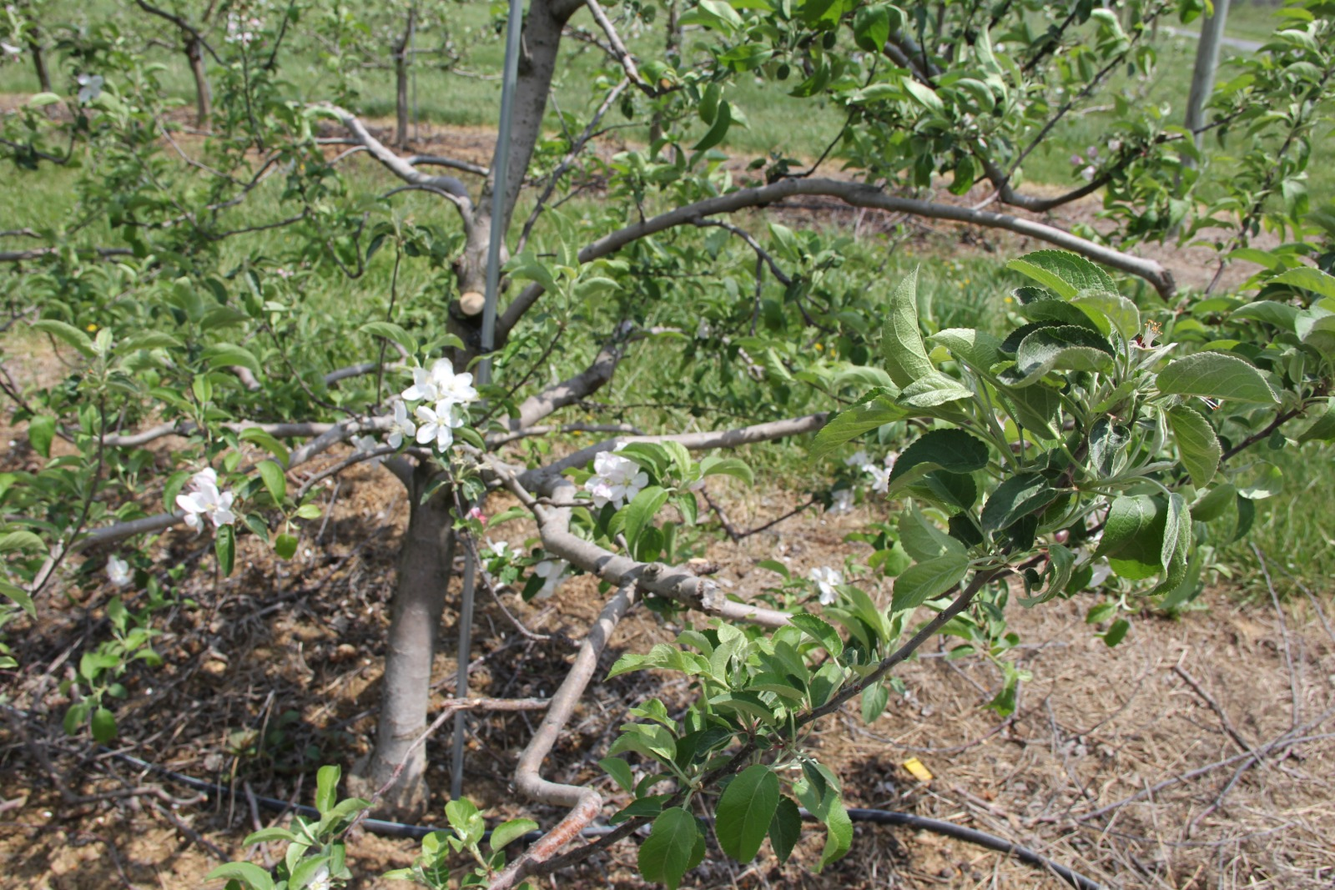flower: (402, 361, 476, 447), (176, 468, 237, 535), (585, 451, 649, 511), (385, 400, 416, 449), (809, 566, 844, 606), (535, 560, 567, 592), (863, 465, 893, 494), (350, 435, 388, 456), (78, 74, 104, 103), (305, 866, 335, 890), (106, 556, 130, 585), (1090, 562, 1116, 588), (368, 456, 385, 470)
